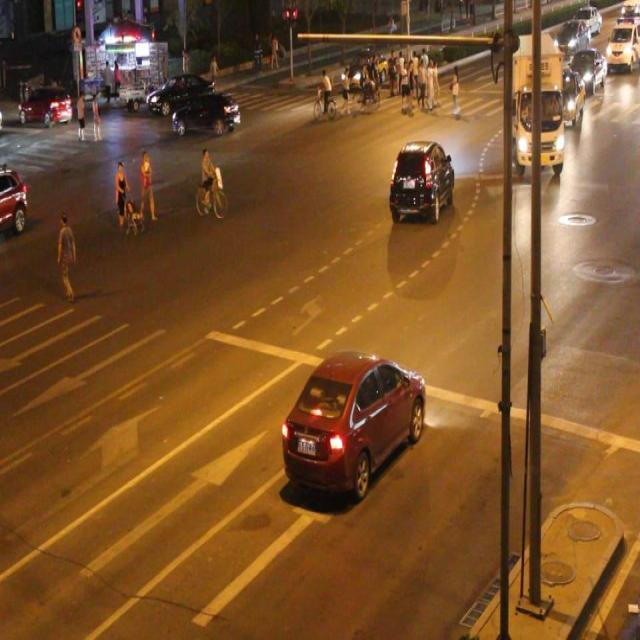bus: (504, 33, 562, 173)
car: (283, 348, 424, 490), (389, 140, 454, 220), (171, 89, 240, 137), (145, 74, 214, 112), (1, 162, 27, 236), (550, 68, 582, 123)
